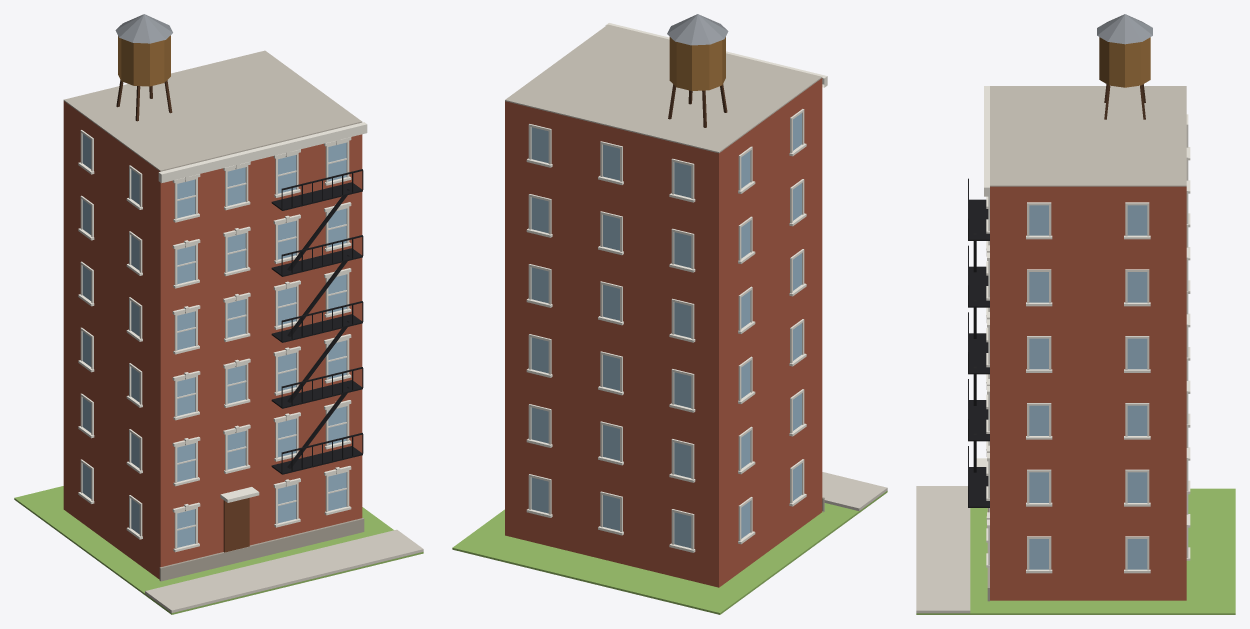
File: Konut_tugla_apt_2_Hafif.fbx
The picture shows the model from 3 angles, left to right: view 1: azimuth 30°, elevation 25°; view 2: azimuth 150°, elevation 25°; view 3: azimuth 270°, elevation 25°; orthographic projection. The views are drawn at different scales.
Visible parts, largest first — view 1: Konut_tugla_apt_2_Hafif; view 2: Konut_tugla_apt_2_Hafif; view 3: Konut_tugla_apt_2_Hafif.
Boxes of the visible parts, left/top/right/bottom form: Konut_tugla_apt_2_Hafif: left=14, top=14, right=423, bottom=614; Konut_tugla_apt_2_Hafif: left=452, top=14, right=887, bottom=614; Konut_tugla_apt_2_Hafif: left=916, top=14, right=1235, bottom=614.
Size of the model in its own units: 12 by 23.08 by 13.
